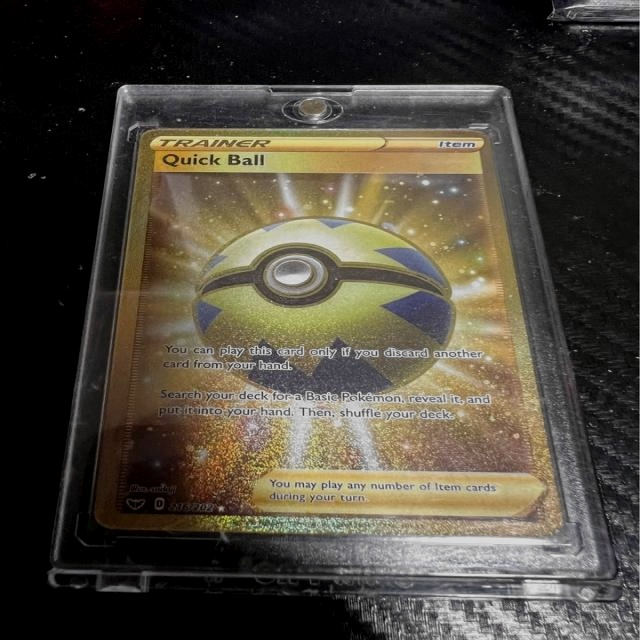card: (90, 126, 568, 539)
